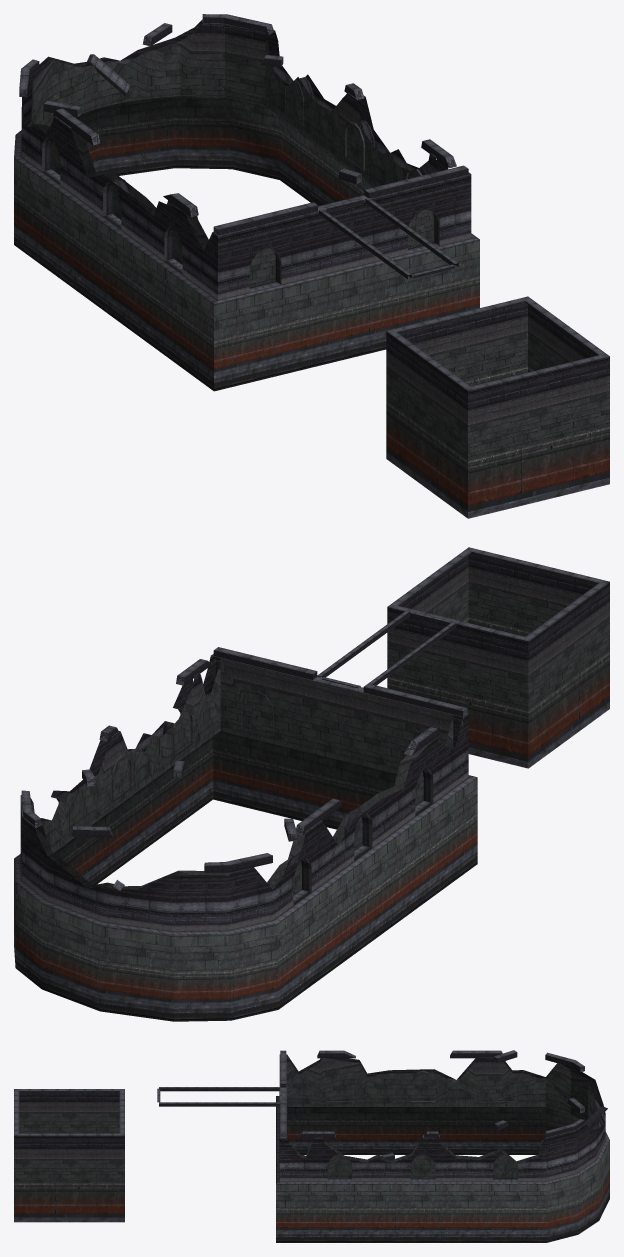
Rendered from tlfb_qiangmian1.FBX.
The picture shows the model from 3 angles, top to bottom: view 1: azimuth 30°, elevation 25°; view 2: azimuth 150°, elevation 25°; view 3: azimuth 270°, elevation 25°; orthographic projection. The views are drawn at different scales.
Visible parts, largest first — view 1: tlfb_qiangmian1; view 2: tlfb_qiangmian1; view 3: tlfb_qiangmian1.
Part boxes in pixels (x1,y1,x2,y2): tlfb_qiangmian1: (14, 14, 609, 518); tlfb_qiangmian1: (14, 547, 609, 1021); tlfb_qiangmian1: (14, 1050, 609, 1242).
Bounding box in the file's own units: 2945 × 1678 × 8444.
